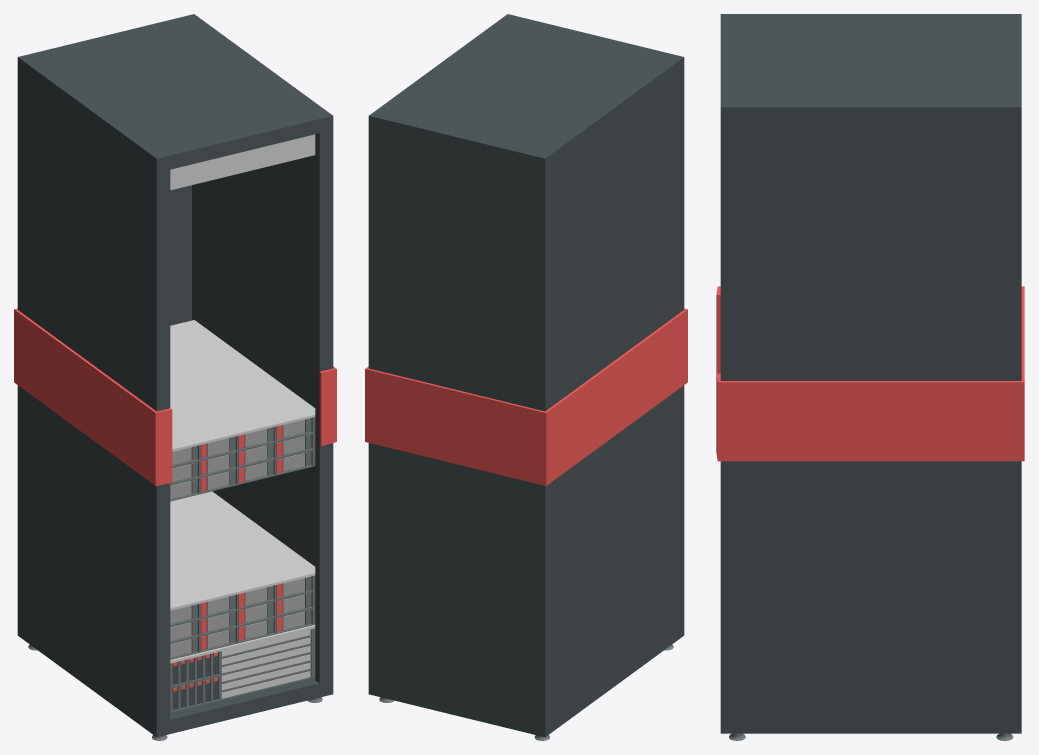
Rendered from server_lvl5.glb.
The picture shows the model from 3 angles, left to right: view 1: azimuth 30°, elevation 25°; view 2: azimuth 150°, elevation 25°; view 3: azimuth 270°, elevation 25°; orthographic projection. The views are drawn at different scales.
Visible parts, largest first — view 1: feet, tray1.001, tray1, tray2; view 2: feet; view 3: feet.
Part boxes in pixels (<box>): feet: <box>14,14,336,740</box>; tray1.001: <box>170,320,315,501</box>; tray1: <box>170,491,315,659</box>; tray2: <box>170,625,315,712</box>; feet: <box>365,14,687,740</box>; feet: <box>716,14,1024,740</box>.
Bounding box in the file's own units: 0.1535 × 0.4757 × 0.2089.
Materials: 2 (1 with a texture image).
